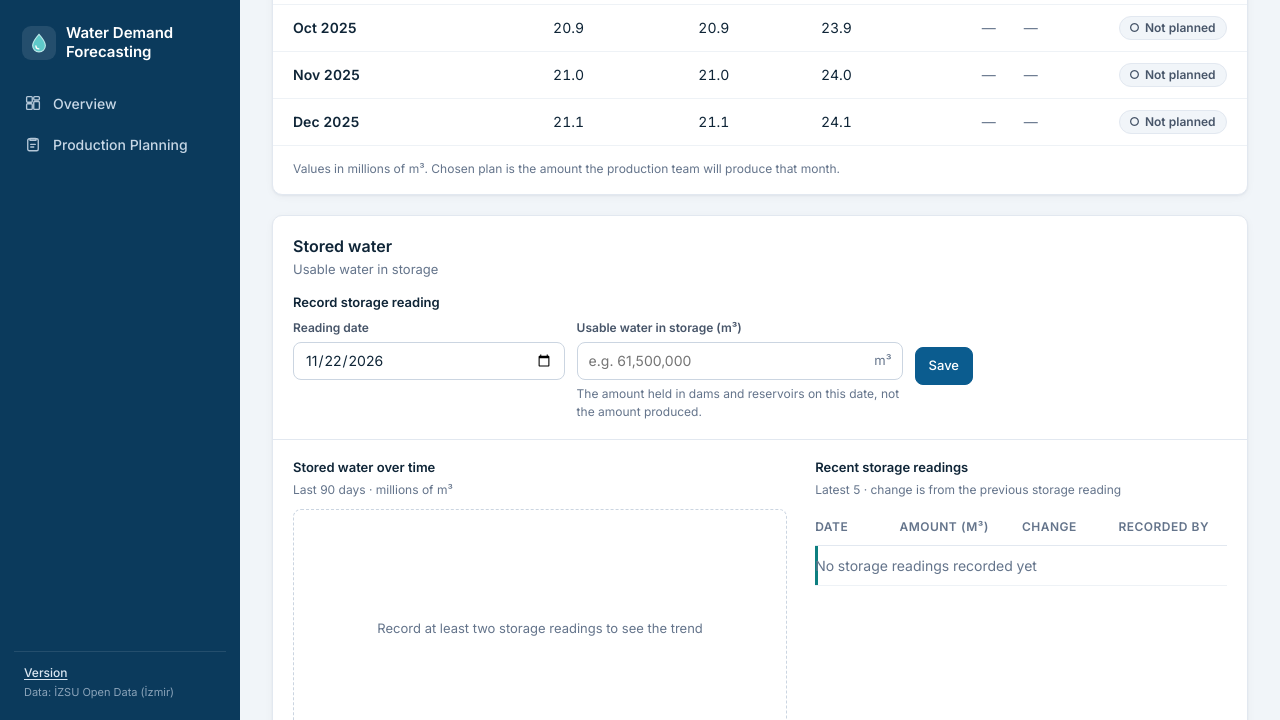
Test: "Check again" closes the large-change confirmation and returns focus to the amount field
(page scrolled)
Type "2025-03-01" into the date field labelled "Reading date" at (429, 361), box [293,342,565,380]
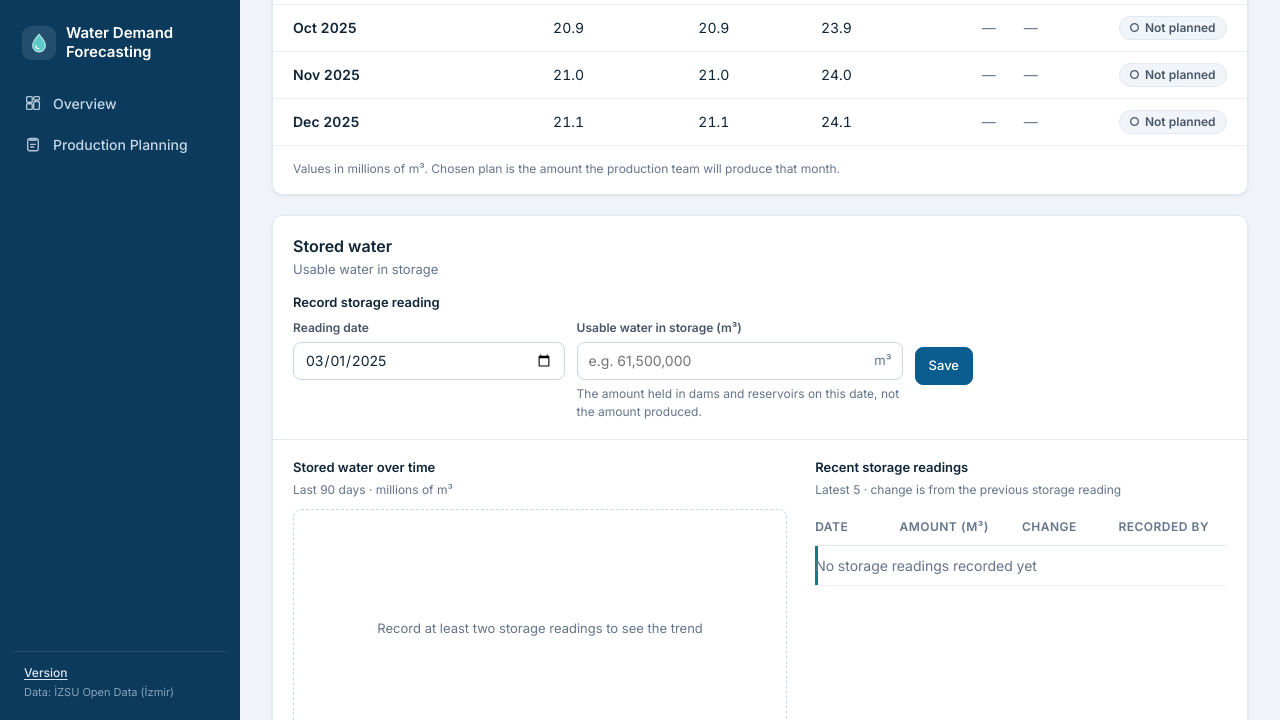
Type "24000000" into the field labelled "Usable water in storage (m³)" at (740, 361), box [577,342,902,380]
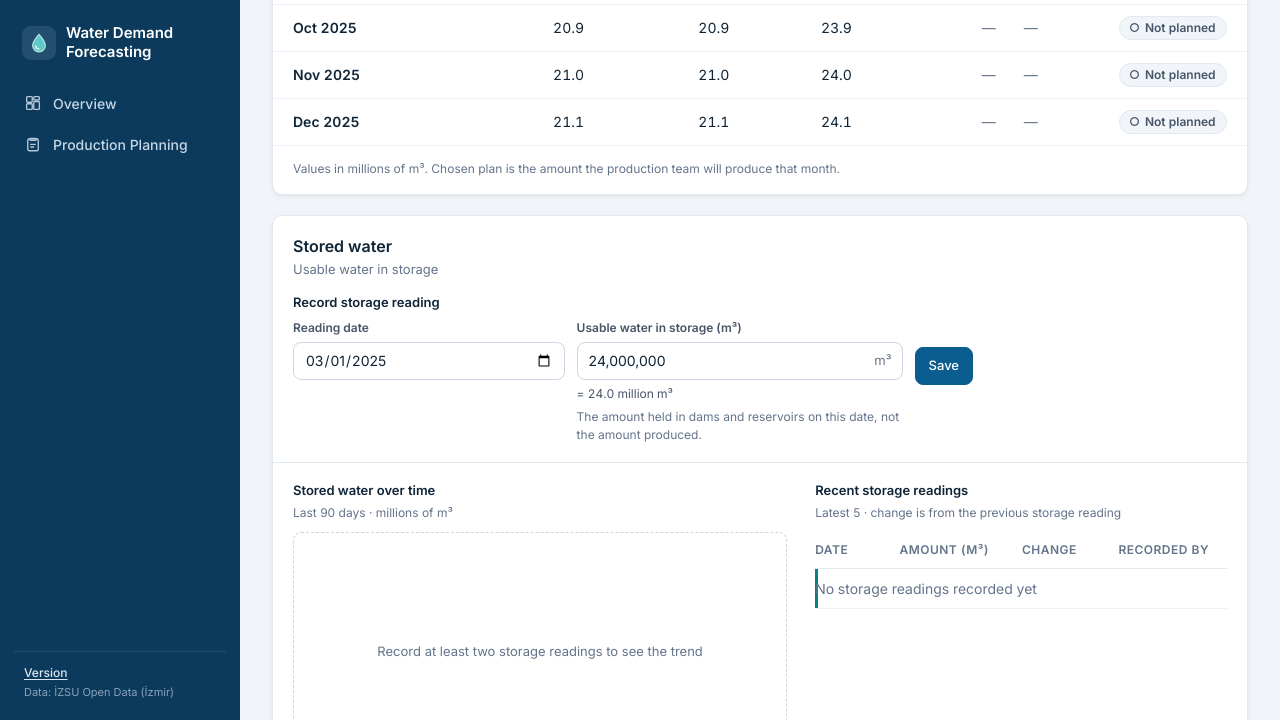
Click the button "Save" at (944, 366), box [914,347,973,385]
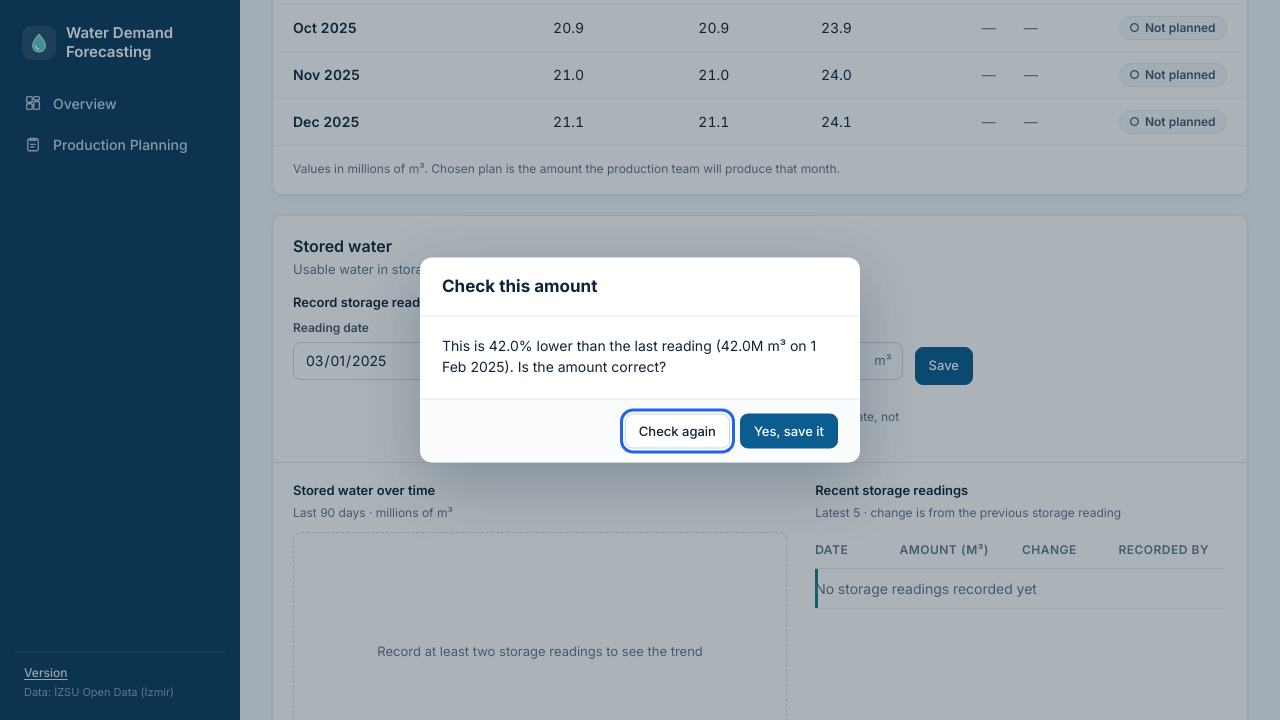
Now the text "Is the amount correct?" is shown, box [505,357,666,374]
Click the button "Check again" at (677, 431), box [625,413,730,448]
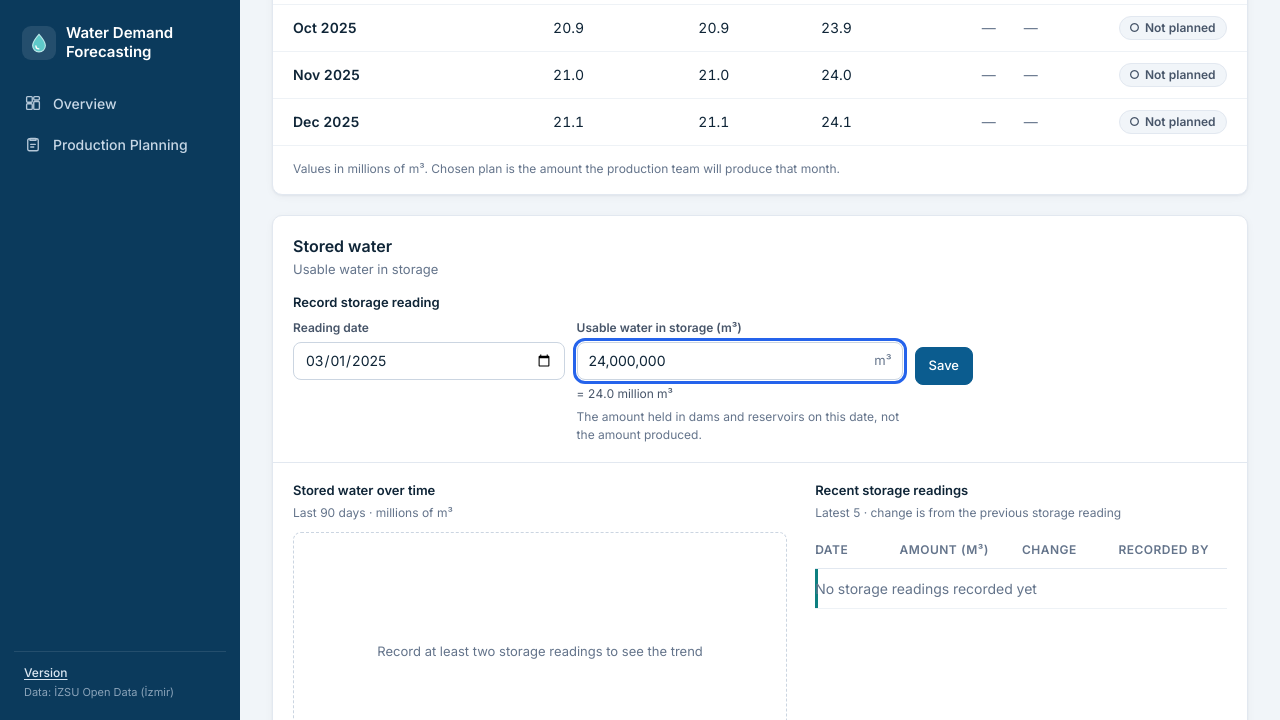
Now the text "Is the amount correct?" is gone
